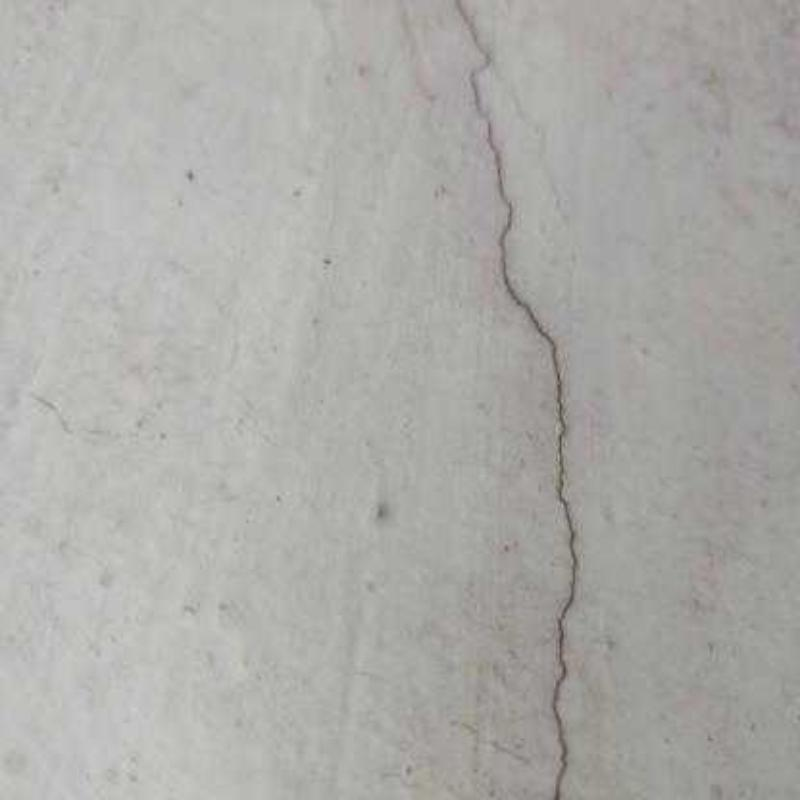pothole: (454, 0, 577, 800)
